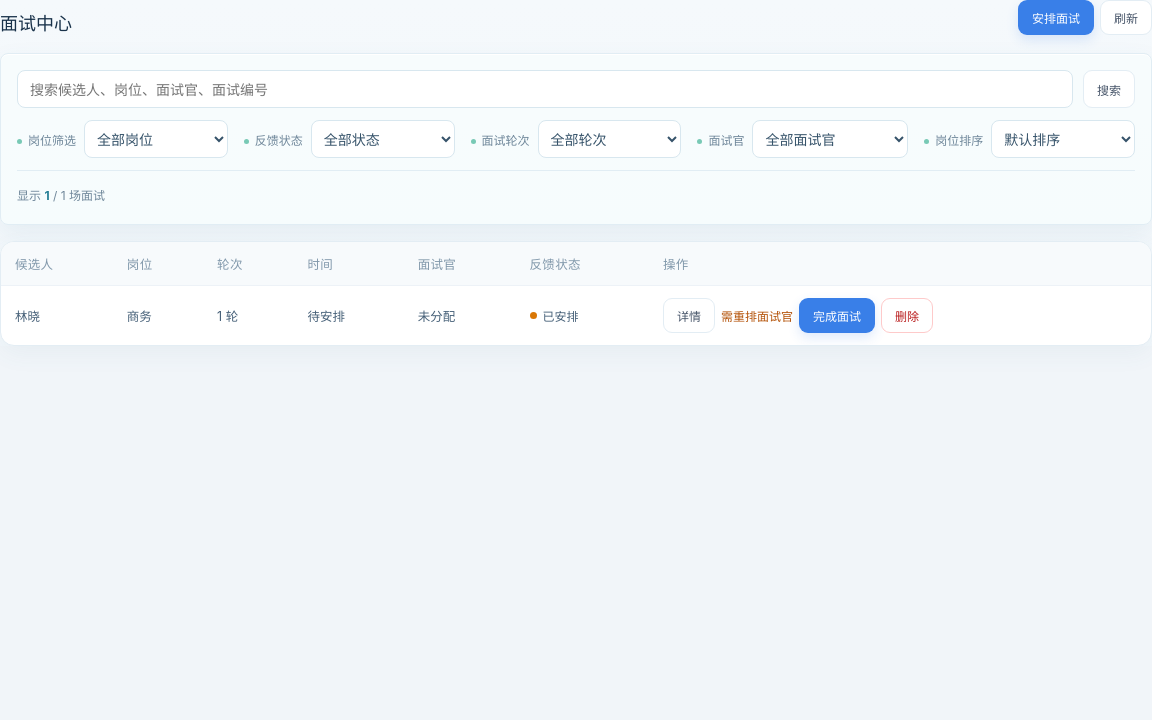
Test case: Interview conclusion from list › shows feedback-lock failures inside the dialog and lets the user retry
Click the button "完成面试" at (837, 316), box [799, 298, 875, 333]
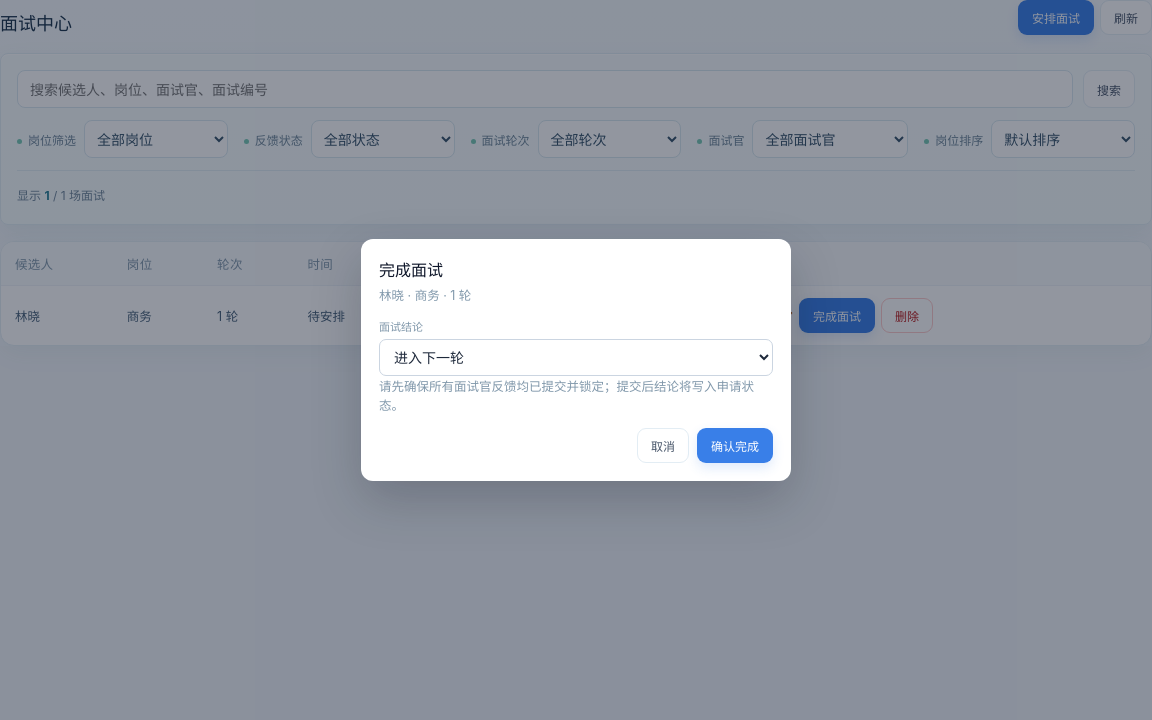
Check: the dialog is shown, box [361, 239, 791, 481]
Select "未通过" in the dropdown labelled "面试结论" at (576, 358), box [379, 339, 773, 376]
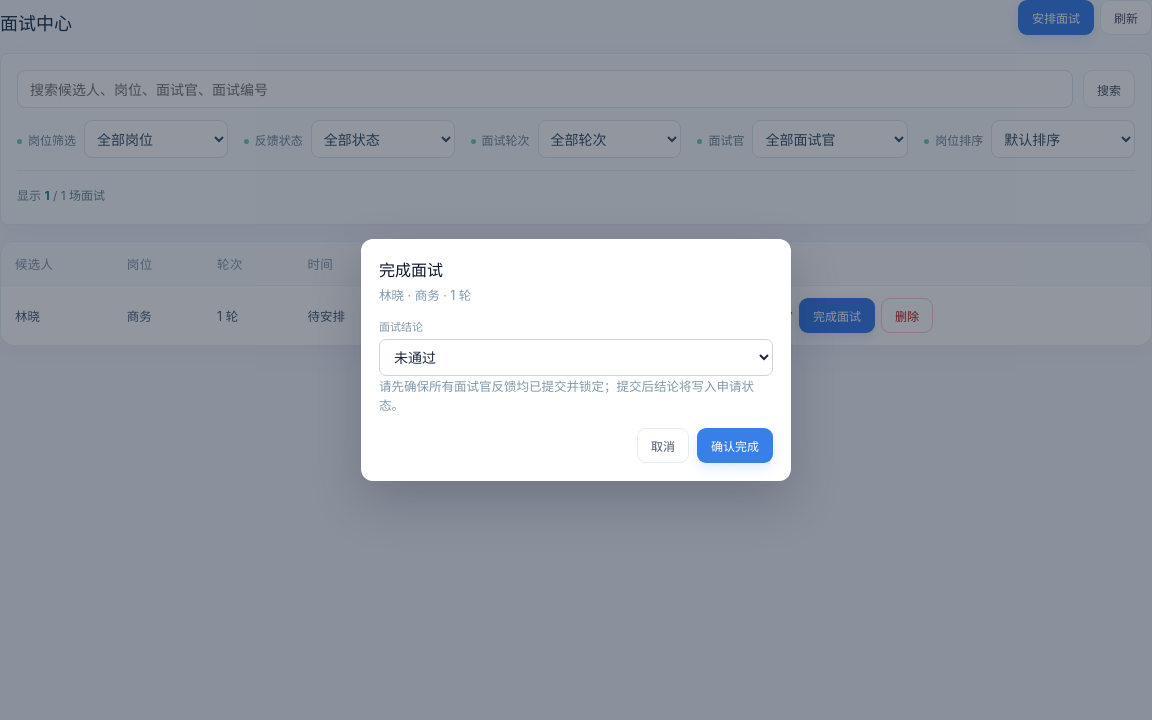
Check: the dialog is shown, box [361, 239, 791, 481]
Check: the button "确认完成" is shown
Click the button "确认完成" at (735, 446), box [697, 428, 773, 463]
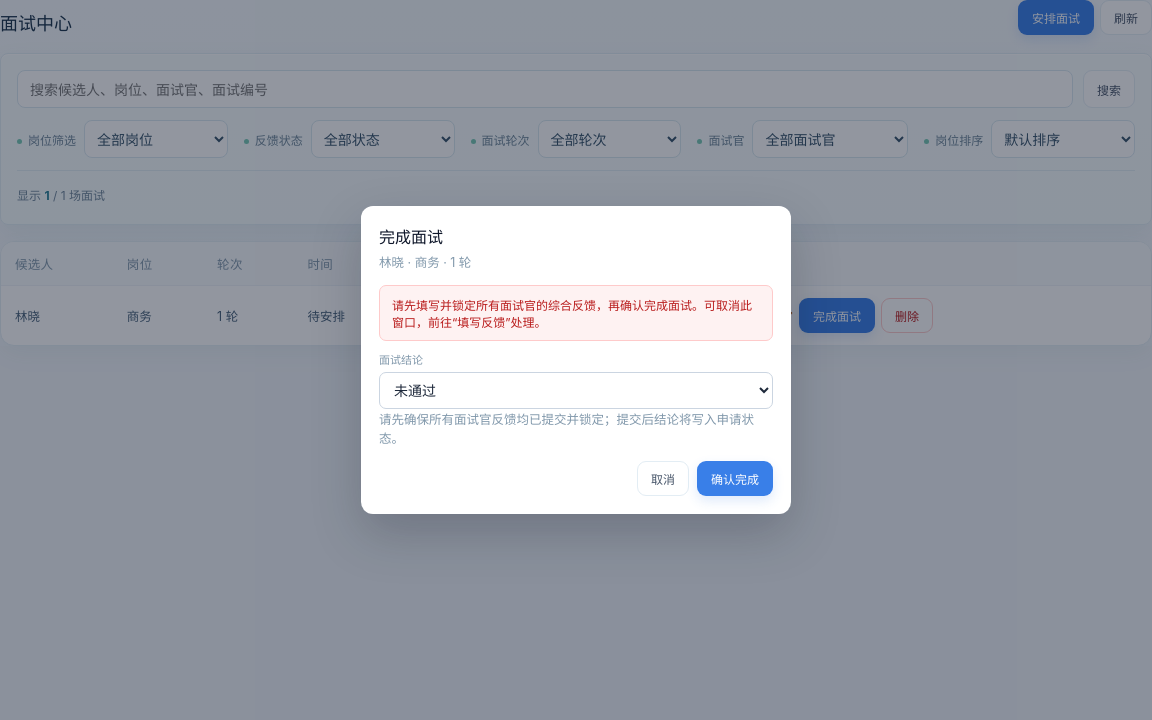
Check: the button "确认完成" is enabled
Check: the dialog is shown, box [361, 206, 791, 514]
Check: the message "请先填写并锁定所有面试官的综合反馈，再确认完成面试。可取消此窗口，前往“填写反馈”处理。" is shown, box [379, 285, 773, 341]
Click the button "确认完成" at (735, 478), box [697, 461, 773, 496]
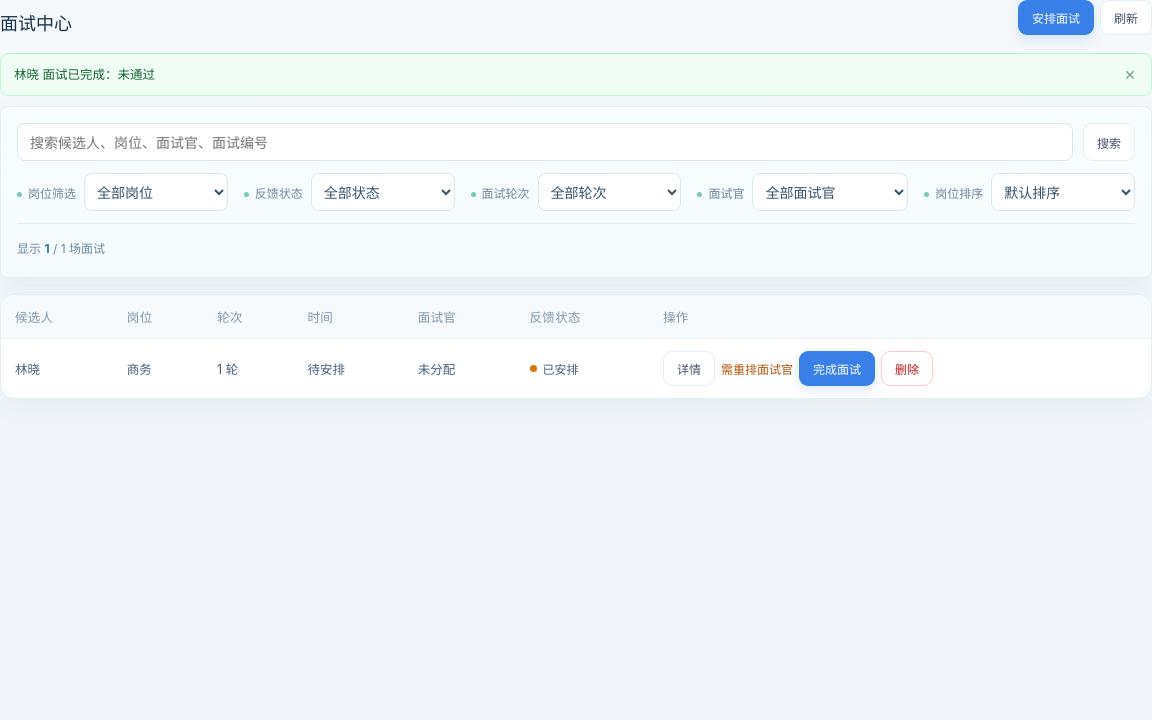
Check: the dialog is gone
Check: the text "面试已完成：未通过" is shown, box [14, 67, 155, 82]
